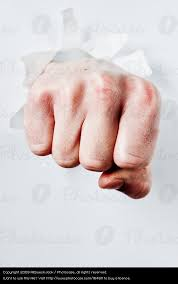hand: (20, 42, 162, 213)
